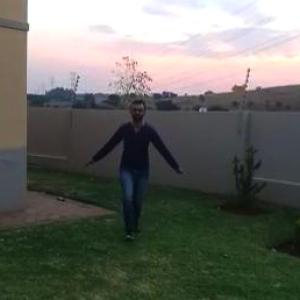land: (86, 99, 184, 237)
